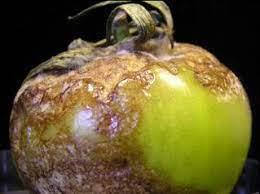tomato late blight: (9, 2, 254, 194)
